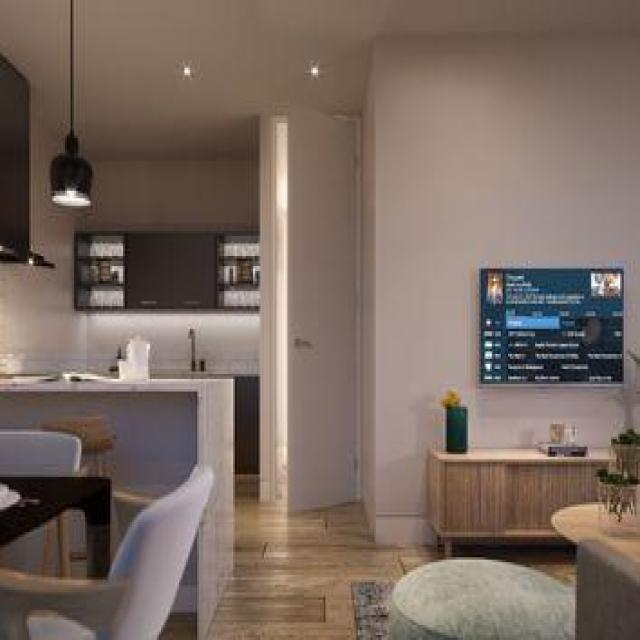Wall: (363, 36, 640, 544), (75, 1, 640, 159), (0, 120, 260, 376), (207, 477, 443, 639), (0, 0, 69, 133), (459, 545, 575, 586), (159, 613, 196, 639)
